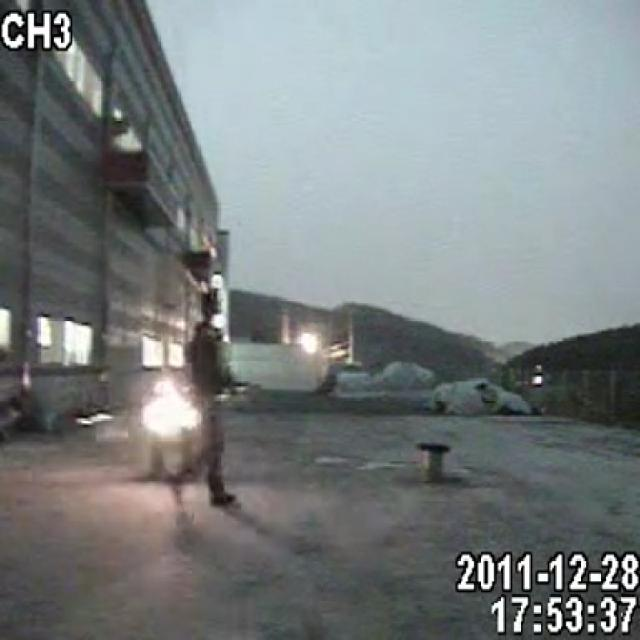Fire: (133, 377, 198, 438)
